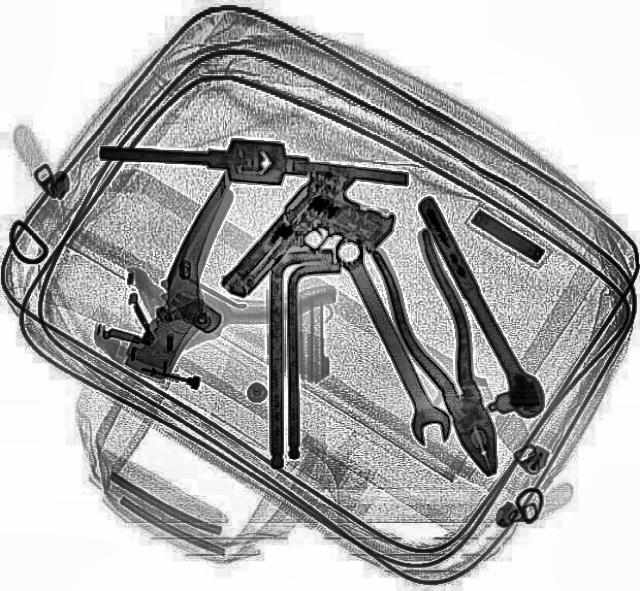Gun: (208, 157, 408, 335)
Pliers: (362, 226, 528, 484)
Wrench: (322, 230, 456, 448)
